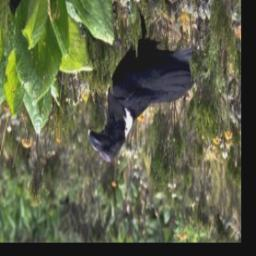Crow: (87, 7, 195, 165)
